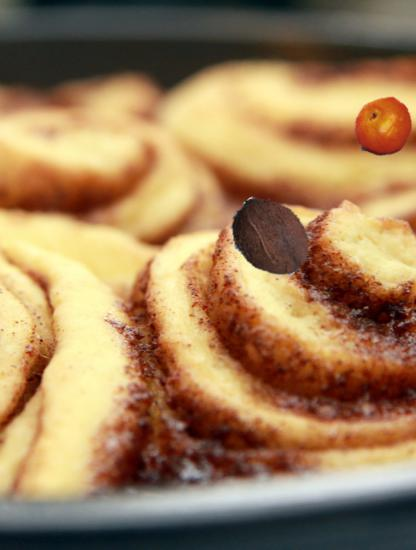Clementine: (351, 96, 414, 159)
Cocos: (226, 194, 313, 281)
